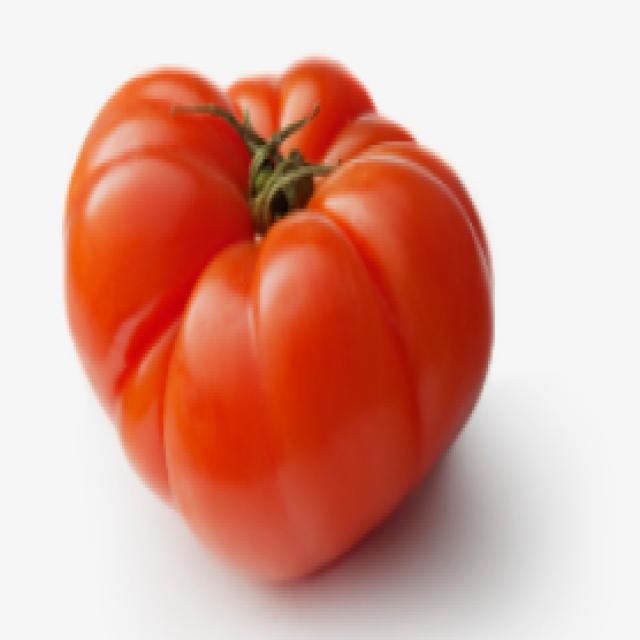Tomato: (76, 27, 500, 573)
